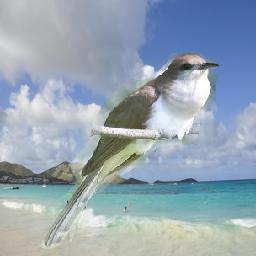Cuckoo: (39, 53, 219, 249)
